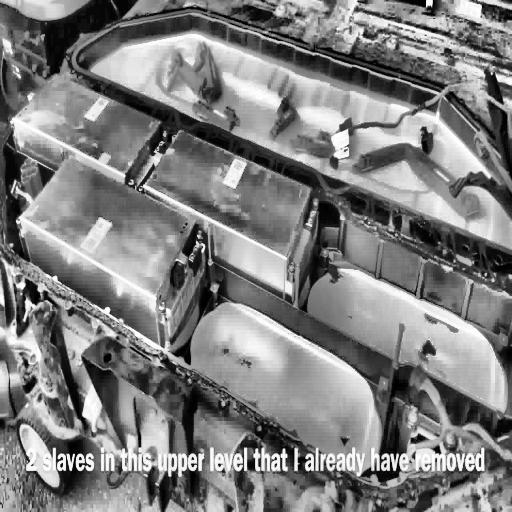battery_module: (20, 157, 196, 298), (144, 126, 313, 261), (13, 73, 162, 176)
busbar: (162, 28, 482, 229)
high_volt_cable: (335, 64, 512, 193)
low_volt_cable: (445, 157, 511, 226)
